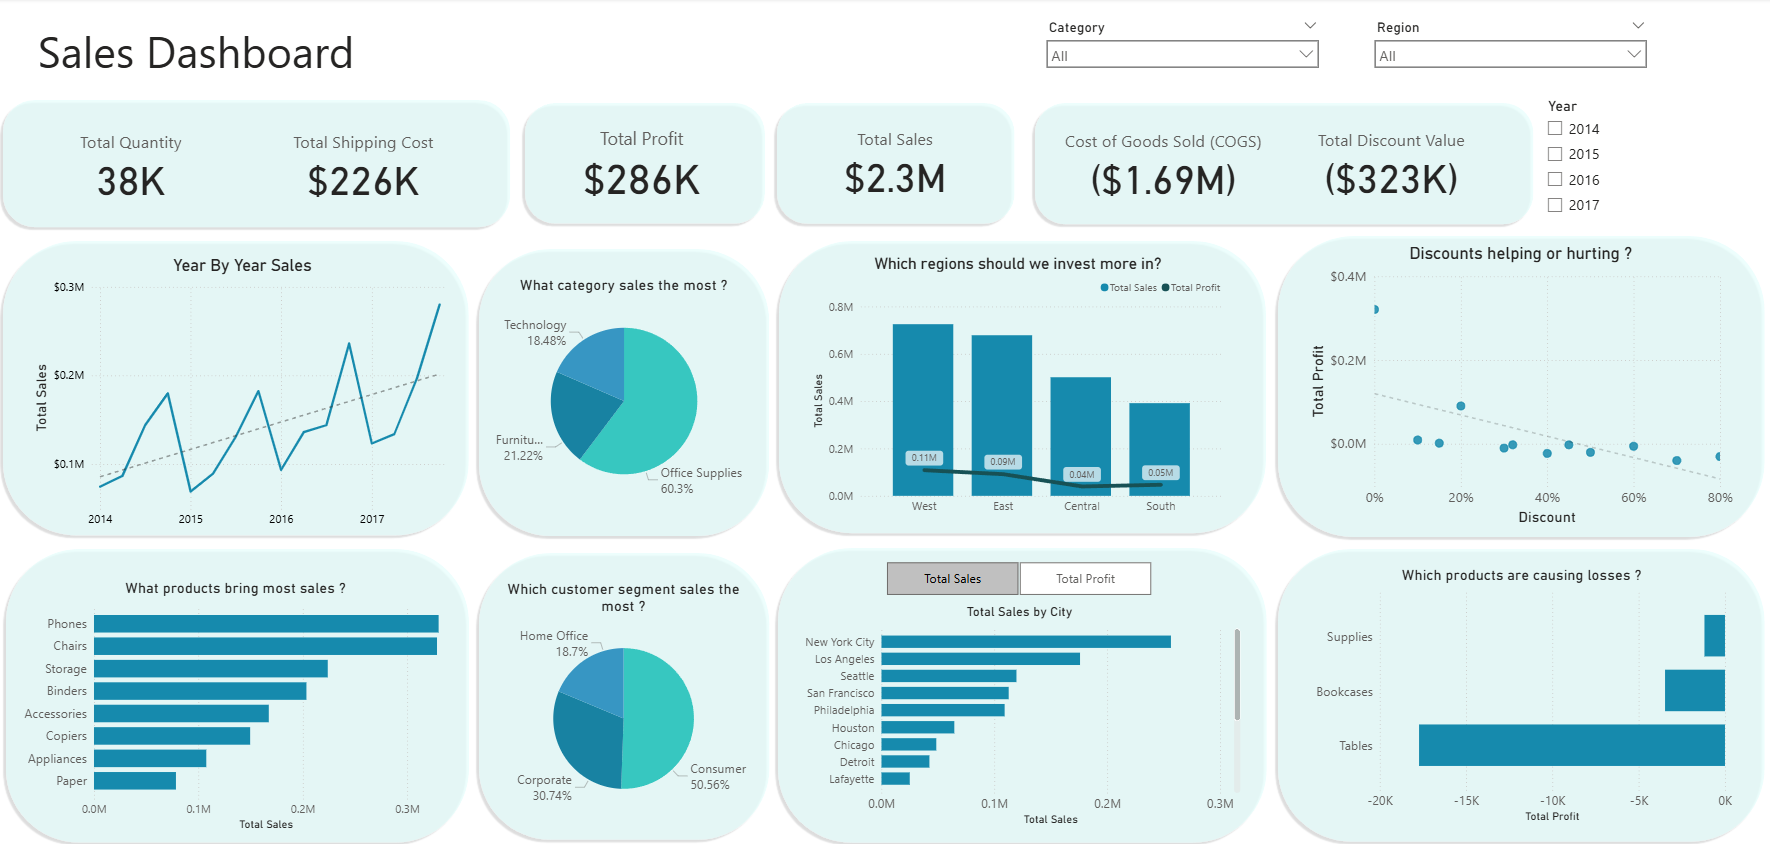

The dashboard page shown, as its layout file describes it:
{"tool":"powerbi","page":{"name":"Main Dashboard","canvas":[2300,1100],"ordinal":0},"visuals":[{"type":"group","id":"g1","title":"Background Shapes","box":[0,125.9,2294.6,974.9],"z":0},{"type":"shape","box":[1004.1,706.1,645.9,394.6],"z":0,"group":"g1"},{"type":"shape","box":[675.4,129.7,323.6,169.1],"z":1000,"group":"g1"},{"type":"cardVisual","fields":{"Data":["_Measures.Total Sales"]},"box":[1018.5,148.7,288.6,130],"z":1000},{"type":"cardVisual","fields":{"Data":["_Measures.Total Profit"]},"box":[713.6,148.5,240,130],"z":2000},{"type":"shape","box":[1651.4,707.5,643.2,391.9],"z":2000,"group":"g1"},{"type":"shape","box":[1002.5,129.9,320.7,169.2],"z":3000,"group":"g1"},{"type":"cardVisual","fields":{"Data":["Sum(Orders.Quantity)"]},"box":[46.5,139.3,251.2,156.8],"z":3000},{"type":"shape","box":[0.1,125.9,669.8,177.5],"z":4000,"group":"g1"},{"type":"cardVisual","title":"Cost of Goods Sold","fields":{"Data":["Sum(Orders.COGS)"]},"box":[1360,139.7,299.3,153.2],"z":4000},{"type":"shape","box":[1336.8,130.4,658.4,169.8],"z":5000,"group":"g1"},{"type":"lineChart","title":"Year By Year Sales","fields":{"Category":["Orders.Order Date.Variation.Date Hierarchy.Year","Orders.Order Date.Variation.Date Hierarchy.Quarter","Orders.Order Date.Variation.Date Hierarchy.Month","Orders.Order Date.Variation.Date Hierarchy.Day"],"Y":["Sum(Orders.Sales)"]},"box":[40.3,334.5,552.8,360.8],"z":5000},{"type":"shape","box":[1651.4,302.1,643.2,402.7],"z":6000,"group":"g1"},{"type":"lineStackedColumnComboChart","title":"Which regions should we invest more in?","fields":{"Category":["Orders.Region"],"Y":["_Measures.Total Sales"],"Y2":["_Measures.Total Profit"]},"box":[1049,332,543.8,347.5],"z":6000},{"type":"shape","box":[1004.3,308.2,643.7,391.4],"z":7000,"group":"g1"},{"type":"barChart","title":"What products bring most sales  ?","fields":{"Category":["Orders.Sub-Category"],"Y":["_Measures.Total Sales"]},"box":[23.4,752.7,569.3,330.8],"z":7000},{"type":"cardVisual","fields":{"Data":["Sum(Orders.Discount Value)"]},"box":[1661,136.1,286.8,160.3],"z":8000},{"type":"shape","box":[616.1,712.4,389.2,384.3],"z":8000,"group":"g1"},{"type":"shape","box":[616.2,318.4,388.7,384.6],"z":9000},{"type":"shape","box":[4.4,707.7,612.5,393.1],"z":9000,"group":"g1"},{"type":"shape","box":[0,308,616.2,394.3],"z":10000,"group":"g1"},{"type":"pieChart","title":"Which customer segment sales the most ?","fields":{"Category":["Orders.Segment"],"Y":["_Measures.Total Sales"]},"box":[646,753.6,328,314.7],"z":10000},{"type":"pieChart","title":"What category sales the most ?","fields":{"Category":["Orders.Category"],"Y":["CountNonNull(Orders.Category)"]},"box":[638.3,359.8,344.6,301.9],"z":11000},{"type":"textbox","box":[46.2,25.4,450.5,97],"z":12000},{"type":"slicer","fields":{"Values":["Orders.Region"]},"box":[1772.8,21.5,371.6,83.6],"z":13000},{"type":"slicer","fields":{"Values":["Orders.Category"]},"box":[1348.5,21.5,371.6,83.6],"z":14000},{"type":"cardVisual","fields":{"Data":["_Measures.Total Shipping Cost"]},"box":[329.7,135.8,286.8,163.9],"z":15000},{"type":"slicer","fields":{"Values":["Orders.Order Date.Variation.Date Hierarchy.Year"]},"box":[1994.1,122.9,234.5,168.2],"z":16000},{"type":"scatterChart","title":"Discounts helping or hurting ?","fields":{"X":["Orders.Discount"],"Y":["_Measures.Total Profit"]},"box":[1693.2,318.9,559.5,368.9],"z":17000},{"type":"barChart","title":"Which products are causing losses ?","fields":{"Category":["Orders.Sub-Category"],"Y":["_Measures.Total Profit"]},"box":[1696.3,735.5,554,337.3],"z":18000},{"type":"slicer","fields":{"Values":["Select sales or profit or count.Select sales or profit or count"]},"box":[1125.1,724.2,392.1,55.6],"z":19000},{"type":"clusteredBarChart","fields":{"Y":["_Measures.Total Sales"],"Category":["Orders.City"]},"box":[1031.7,785,581.7,291.7],"z":20000}]}

Visuals, with their boxes in screenshot pixels (x1, y1, x2, y2), scaled from the page's 2300x1100 canvas onto the 1770x844 screenshot:
"Background Shapes" group: locate(0, 97, 1766, 843)
shape: locate(773, 542, 1270, 843)
shape: locate(520, 100, 769, 229)
cardVisual - _Measures.Total Sales: locate(784, 114, 1006, 214)
cardVisual - _Measures.Total Profit: locate(549, 114, 734, 214)
shape: locate(1271, 543, 1766, 843)
shape: locate(771, 100, 1018, 229)
cardVisual - Sum(Orders.Quantity): locate(36, 107, 229, 227)
shape: locate(0, 97, 516, 233)
"Cost of Goods Sold" cardVisual: locate(1047, 107, 1277, 225)
shape: locate(1029, 100, 1535, 230)
"Year By Year Sales" lineChart: locate(31, 257, 456, 533)
shape: locate(1271, 232, 1766, 541)
"Which regions should we invest more in?" lineStackedColumnComboChart: locate(807, 255, 1226, 521)
shape: locate(773, 236, 1268, 537)
"What products bring most sales  ?" barChart: locate(18, 578, 456, 831)
cardVisual - Sum(Orders.Discount Value): locate(1278, 104, 1499, 227)
shape: locate(474, 547, 774, 841)
shape: locate(474, 244, 773, 539)
shape: locate(3, 543, 475, 843)
shape: locate(0, 236, 474, 539)
"Which customer segment sales the most ?" pieChart: locate(497, 578, 750, 820)
"What category sales the most ?" pieChart: locate(491, 276, 756, 508)
textbox: locate(36, 19, 382, 94)
slicer - Orders.Region: locate(1364, 16, 1650, 81)
slicer - Orders.Category: locate(1038, 16, 1324, 81)
cardVisual - _Measures.Total Shipping Cost: locate(254, 104, 474, 230)
slicer - Orders.Order Date.Variation.Date Hierarchy.Year: locate(1535, 94, 1715, 223)
"Discounts helping or hurting ?" scatterChart: locate(1303, 245, 1734, 528)
"Which products are causing losses ?" barChart: locate(1305, 564, 1732, 823)
slicer - Select sales or profit or count.Select sales or profit or count: locate(866, 556, 1168, 598)
clusteredBarChart - _Measures.Total Sales x Orders.City: locate(794, 602, 1242, 826)
